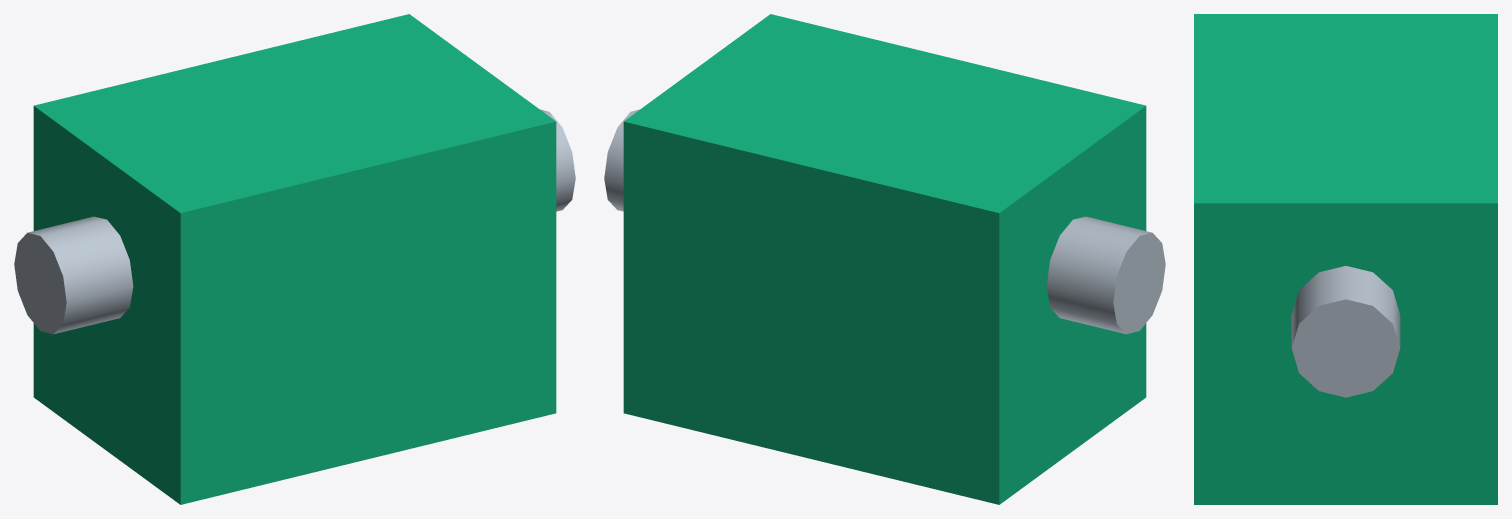
The model's file is equip-erv-ventilator.glb.
3 views of the same model, side by side, from view 1: azimuth 30°, elevation 25°; view 2: azimuth 150°, elevation 25°; view 3: azimuth 270°, elevation 25° (orthographic). The views are drawn at different scales.
Parts seen in each view (by area): view 1: hvac-equipment-erv-ventilator; view 2: hvac-equipment-erv-ventilator; view 3: hvac-equipment-erv-ventilator.
Boxes of the visible parts, bbox=[...] form: hvac-equipment-erv-ventilator: bbox=[14, 14, 575, 504]; hvac-equipment-erv-ventilator: bbox=[604, 14, 1165, 504]; hvac-equipment-erv-ventilator: bbox=[1194, 14, 1497, 504].
Bounding box in the file's own units: 0.84 × 0.46 × 0.42.
